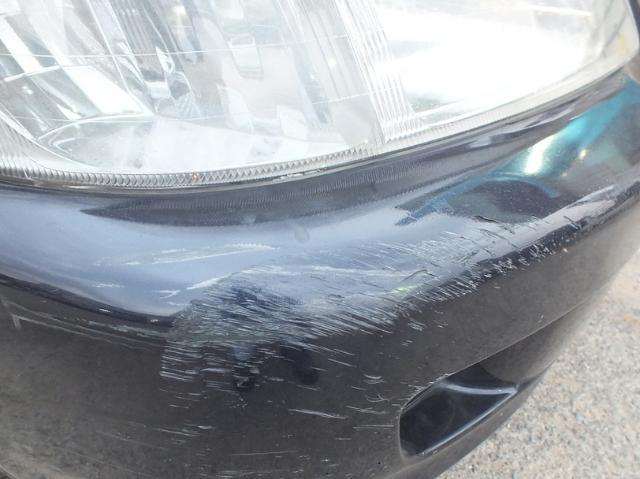Bumper: (2, 180, 601, 425)
